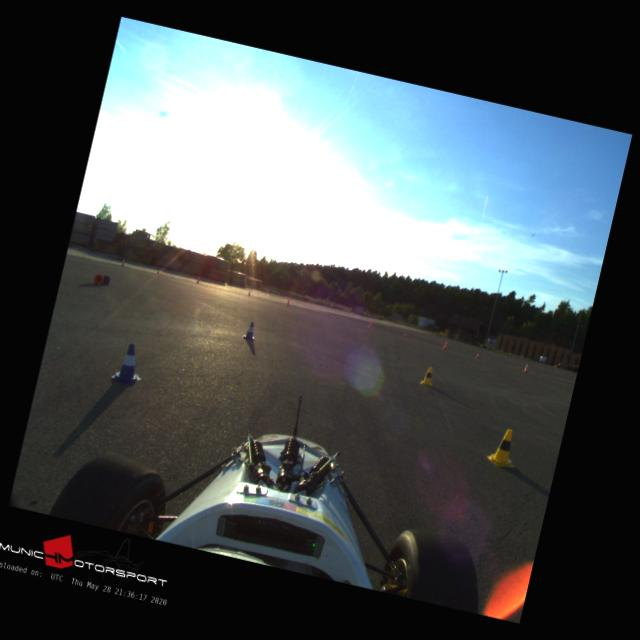blue_cone: (110, 339, 148, 385), (242, 320, 258, 340)
yellow_cone: (485, 425, 522, 469), (419, 364, 436, 386)
